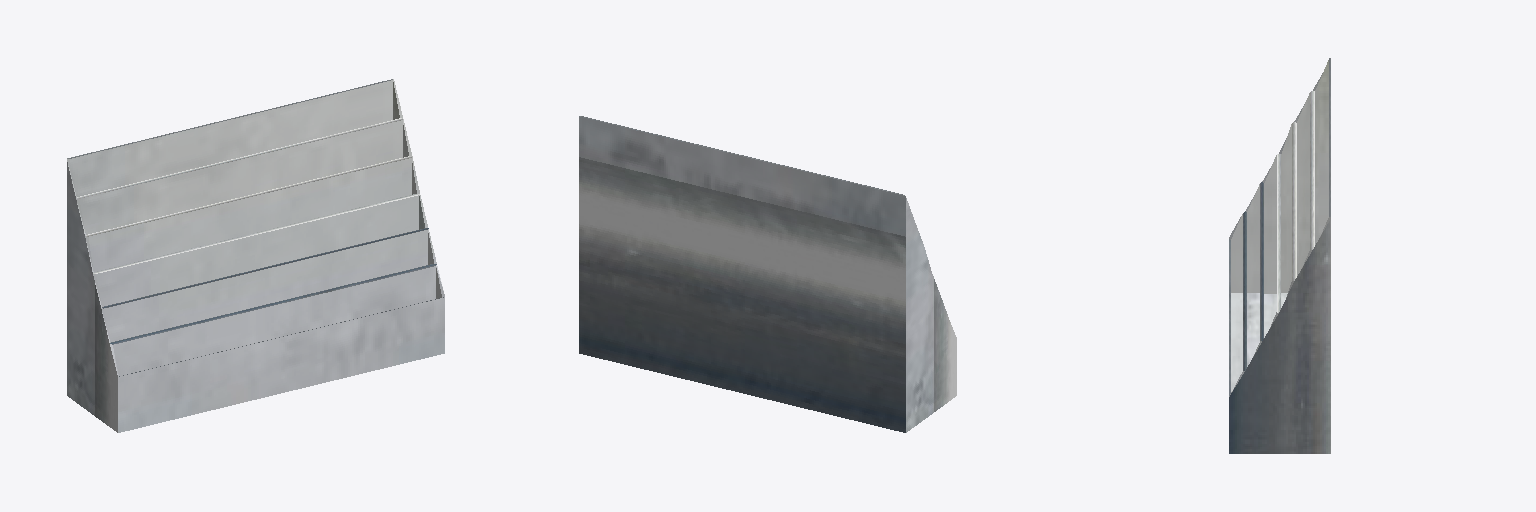
3 renders of one model, left to right at view 1: azimuth 30°, elevation 25°; view 2: azimuth 150°, elevation 25°; view 3: azimuth 270°, elevation 25°, orthographic.
Visible parts, largest first — view 1: barber_magazineRack.obj; view 2: barber_magazineRack.obj; view 3: barber_magazineRack.obj.
Part boxes in pixels (x1,y1,x2,y2): barber_magazineRack.obj: (67,79,444,432); barber_magazineRack.obj: (579,116,956,432); barber_magazineRack.obj: (1229,58,1330,453).
Bounding box in the file's own units: 10.22 × 7.07 × 2.78.
Materials: 1 (1 with a texture image).